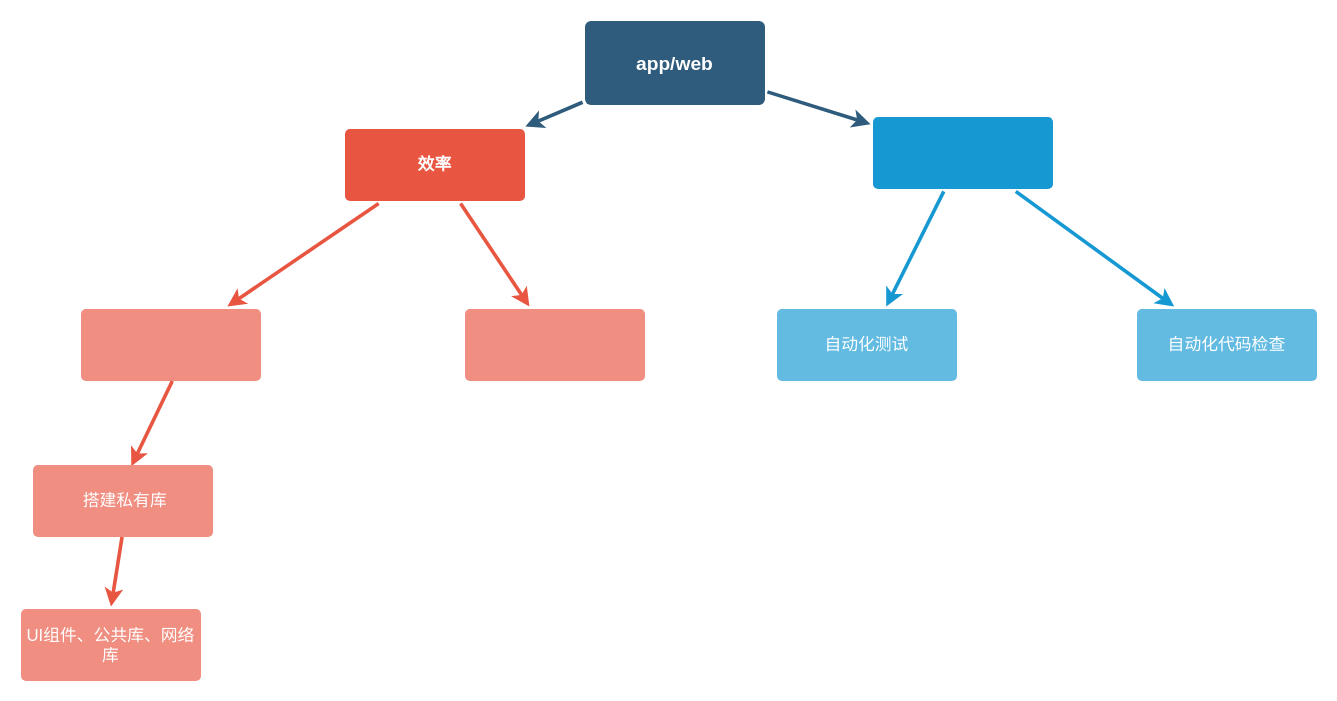
This 1337x701 diagram has some shape labels left out. The shapes that lost their labels are listed below. From the top down, each one's box as (x1, y1, x2, y2) in pixels, then its label:
(872, 116, 1052, 188): 质量
(80, 308, 260, 380): 复用
(464, 308, 644, 380): 智能化
